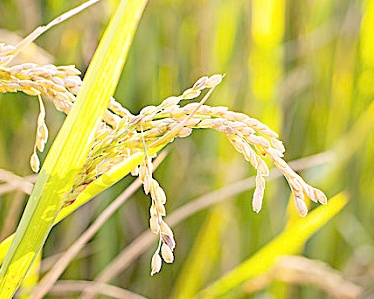rice: (89, 70, 325, 279)
